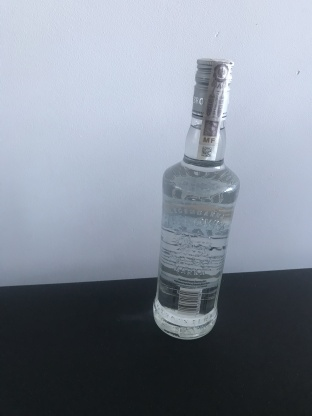nakretka: (189, 53, 238, 123)
